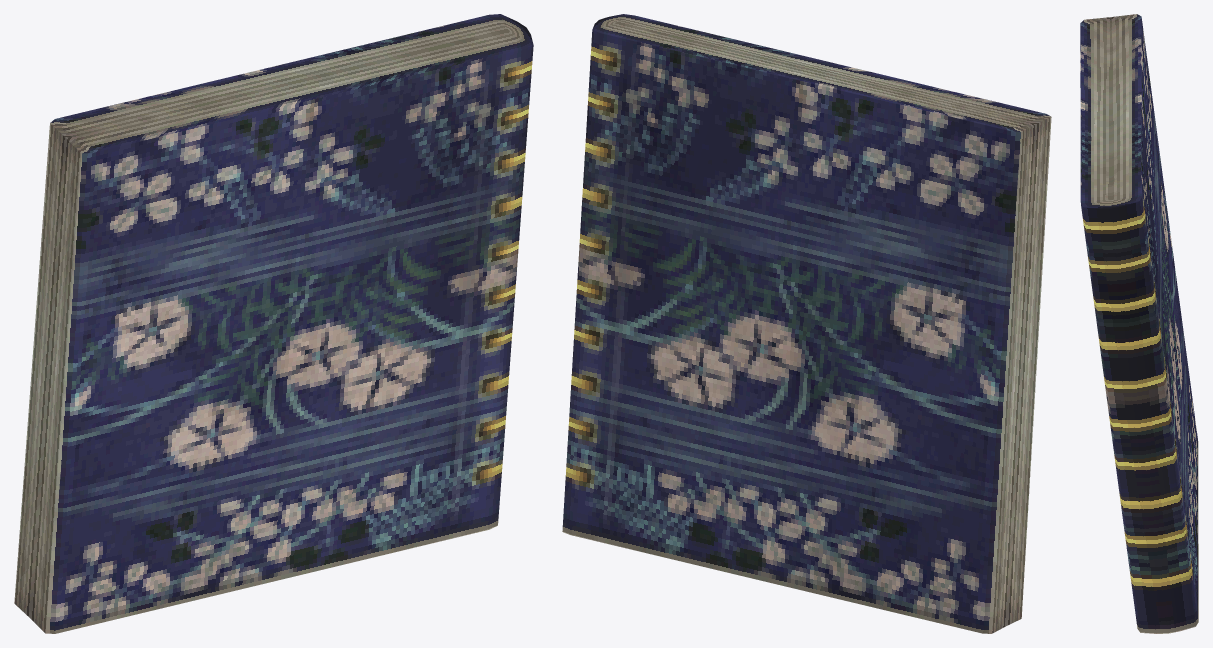
File: ps2_save-icons_fatalframe2-albumdata-slot2blue.glb
3 views of the same model, side by side, from view 1: azimuth 30°, elevation 25°; view 2: azimuth 150°, elevation 25°; view 3: azimuth 270°, elevation 25° (orthographic). The views are drawn at different scales.
Visible parts, largest first — view 1: zero-b-album1.ico; view 2: zero-b-album1.ico; view 3: zero-b-album1.ico.
Part boxes in pixels (x1,y1,x2,y2): zero-b-album1.ico: [14, 14, 533, 633]; zero-b-album1.ico: [562, 14, 1051, 633]; zero-b-album1.ico: [1080, 14, 1198, 633].
Bounding box in the file's own units: 3.58 × 3.79 × 0.9373.
Materials: 1 (1 with a texture image).
